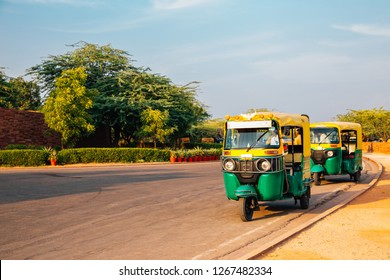threewheel: (220, 114, 312, 223), (309, 121, 364, 185)
